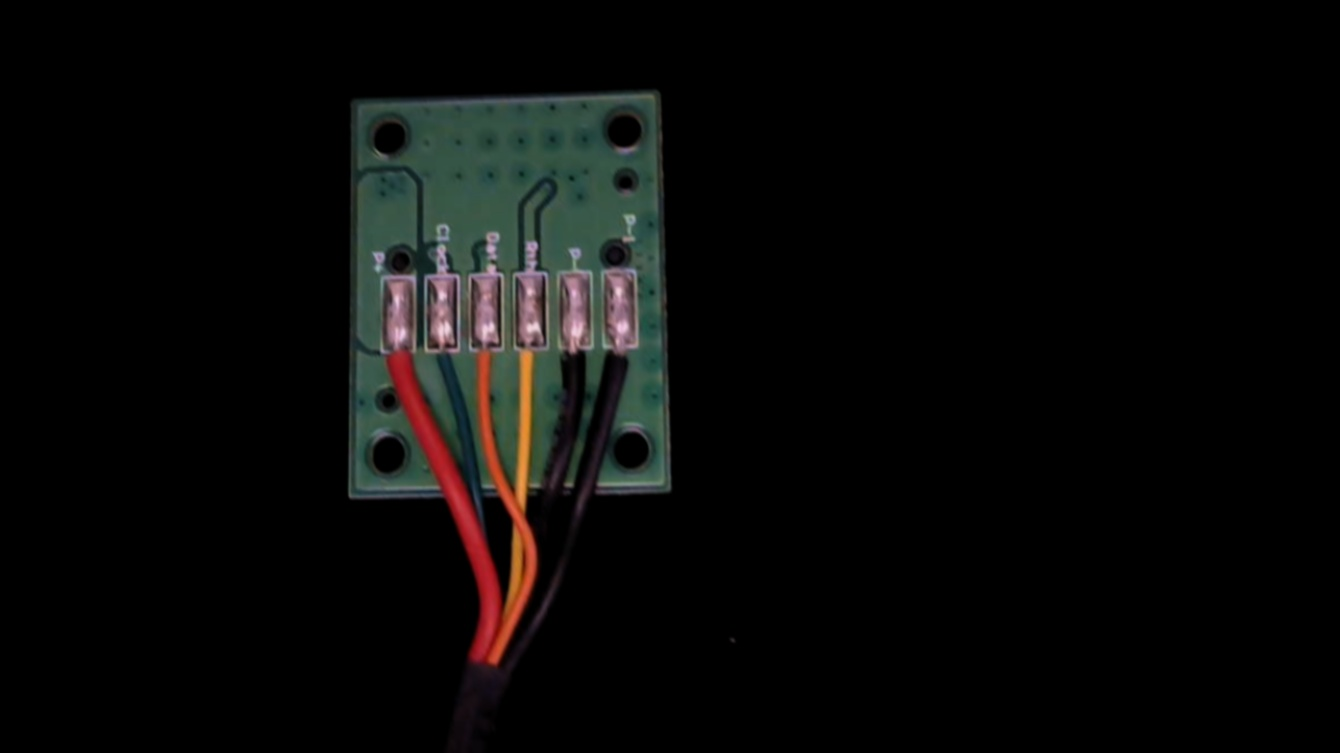Black: (557, 327, 592, 410)
Black1: (603, 326, 637, 400)
Green: (422, 330, 456, 405)
Orange: (468, 329, 500, 406)
Red: (380, 336, 415, 420)
Yellow: (513, 326, 546, 412)
